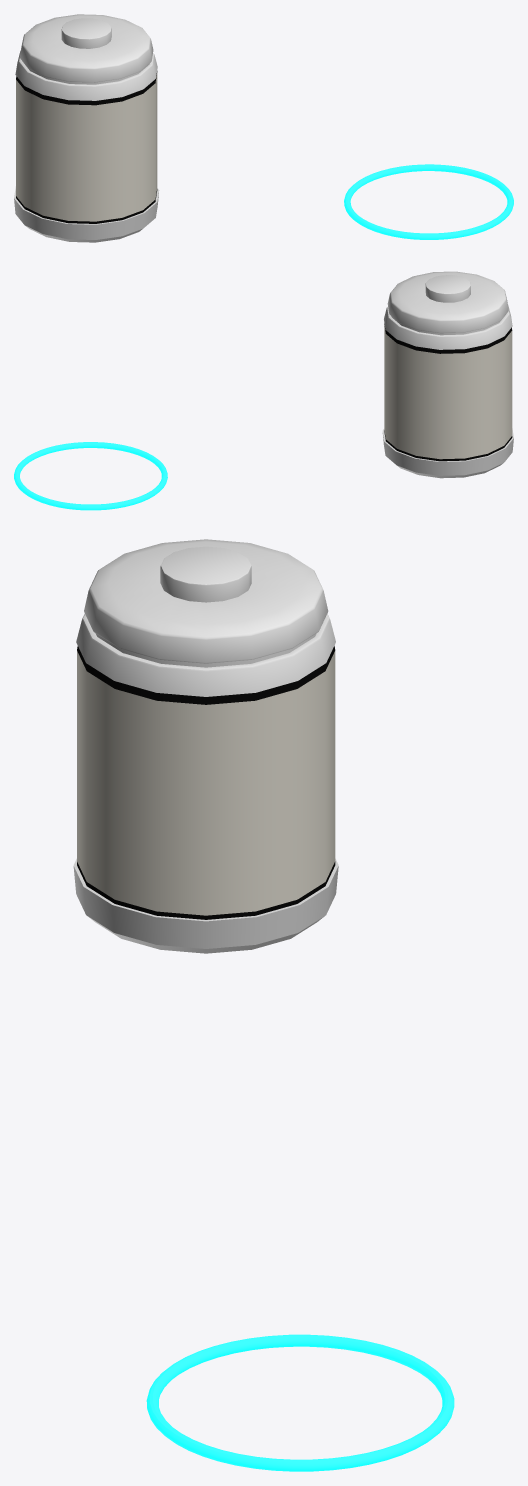
Rendered from TimeCapsule.fbx.
3 views of the same model, one above another, from view 1: azimuth 30°, elevation 25°; view 2: azimuth 150°, elevation 25°; view 3: azimuth 270°, elevation 25° (orthographic). The views are drawn at different scales.
Parts seen in each view (by area): view 1: Cell, Torus; view 2: Cell, Torus; view 3: Cell, Torus.
Part boxes in pixels (bbox=[...]): Cell: bbox=[14, 14, 159, 242]; Torus: bbox=[344, 164, 513, 239]; Cell: bbox=[382, 271, 513, 478]; Torus: bbox=[14, 442, 167, 510]; Cell: bbox=[73, 539, 338, 953]; Torus: bbox=[146, 1334, 454, 1471].
Bounding box in the file's own units: 352 × 190 × 127.
